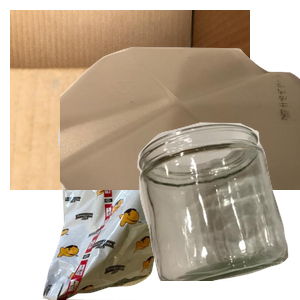cardboard: (10, 10, 250, 190)
glass: (135, 120, 300, 300)
plastic: (60, 44, 300, 224)
trash: (25, 120, 198, 300)
